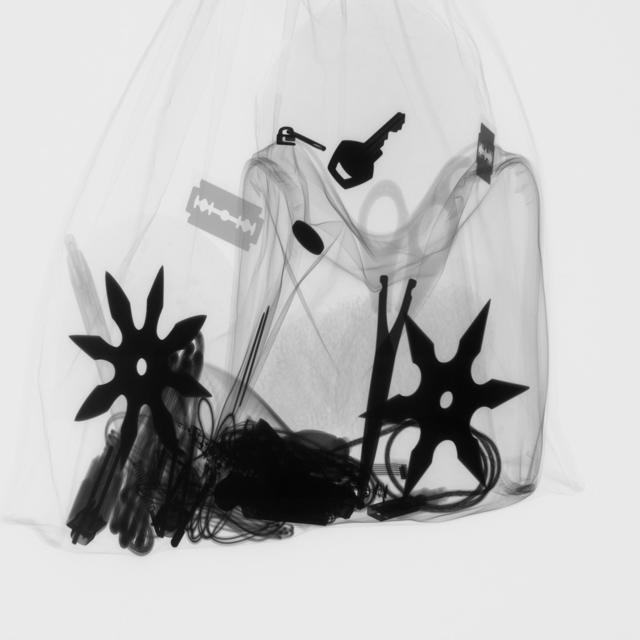razor: (178, 174, 274, 261), (470, 118, 502, 190)
shuriken: (368, 306, 526, 502), (68, 266, 213, 457)
